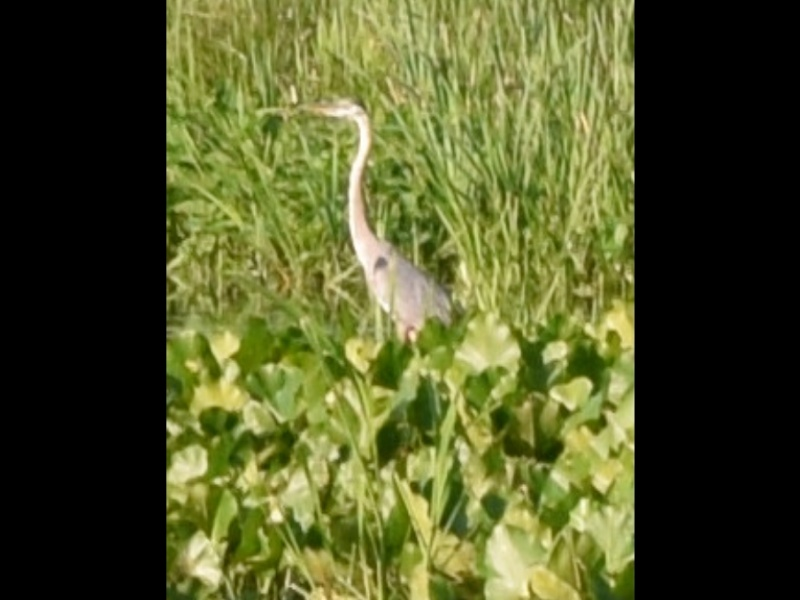heron: (295, 97, 463, 349)
